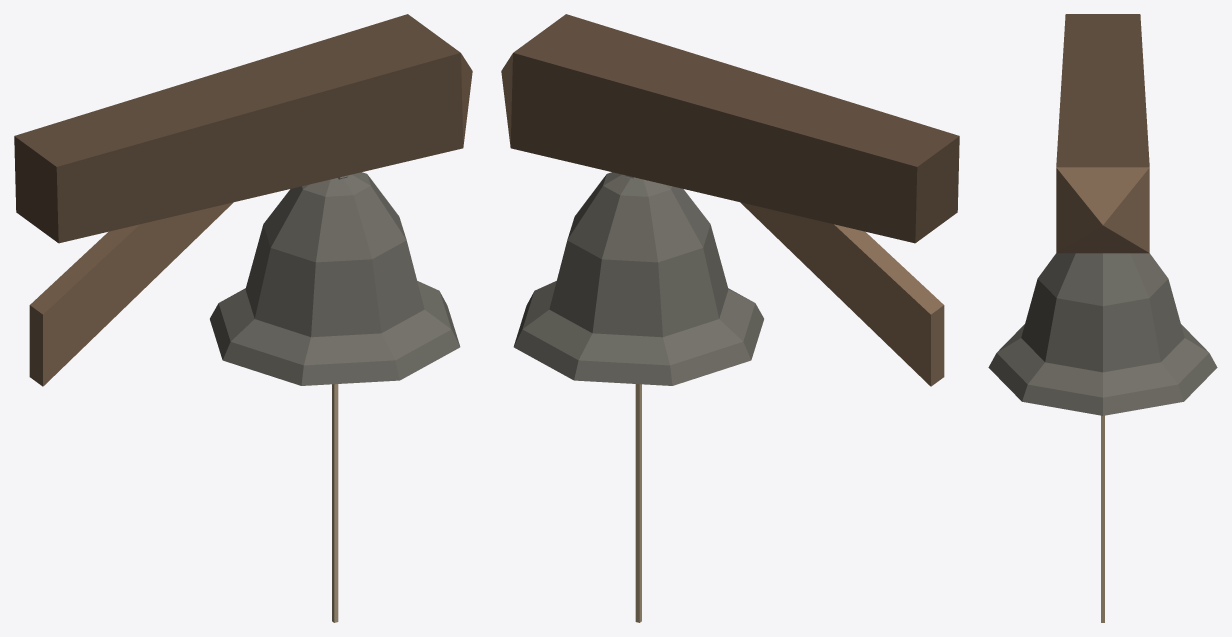
Rendered from Wall_Prop_Bell_1.glb.
The picture shows the model from 3 angles, left to right: view 1: azimuth 30°, elevation 25°; view 2: azimuth 150°, elevation 25°; view 3: azimuth 270°, elevation 25°; orthographic projection. The views are drawn at different scales.
Parts seen in each view (by area): view 1: Wall_Prop_Bell_1; view 2: Wall_Prop_Bell_1; view 3: Wall_Prop_Bell_1.
Boxes of the visible parts, x1,y1,x2,y2 form: Wall_Prop_Bell_1: (14,14,472,622); Wall_Prop_Bell_1: (501,14,959,622); Wall_Prop_Bell_1: (988,14,1217,622).
Bounding box in the file's own units: 0.9518 × 1.17 × 0.4896.
